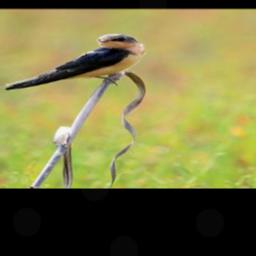Swallow: (0, 29, 146, 93)
